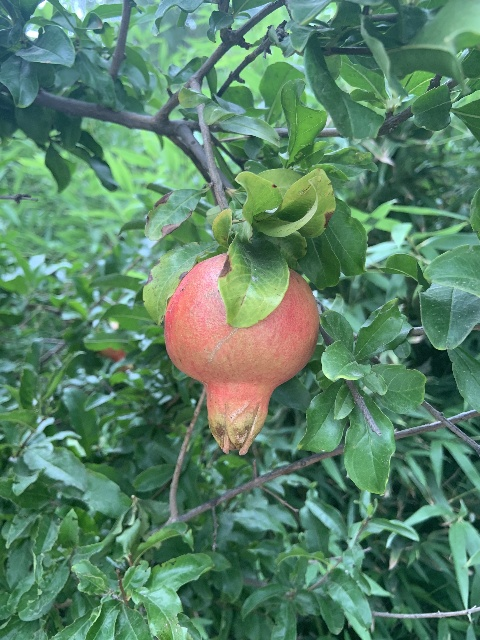ripe: (163, 253, 319, 455)
